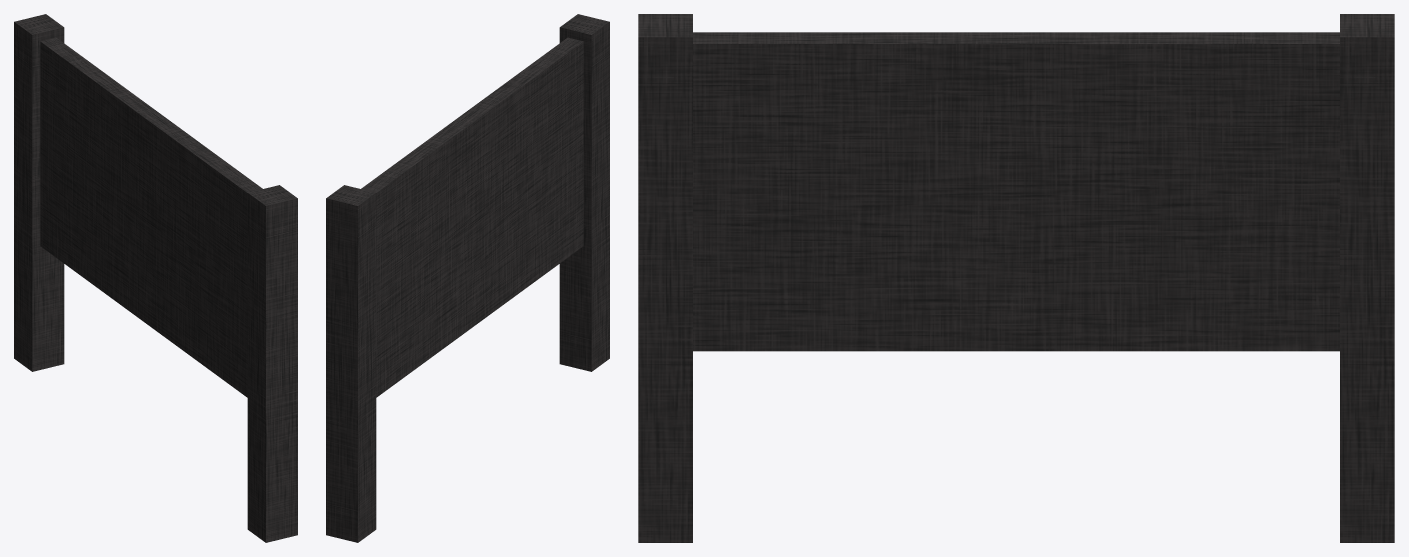
Rendered from Signboard_MRT (1).fbx.
The picture shows the model from 3 angles, left to right: view 1: azimuth 30°, elevation 25°; view 2: azimuth 150°, elevation 25°; view 3: azimuth 270°, elevation 25°; orthographic projection. The views are drawn at different scales.
Parts seen in each view (by area): view 1: Signboard; view 2: Signboard; view 3: Signboard.
Part boxes in pixels (box(x1,y1,x2,y2)): Signboard: box(14, 14, 297, 542); Signboard: box(326, 14, 609, 542); Signboard: box(638, 14, 1394, 542).
Size of the model in its own units: 20.12 by 203 by 275.
